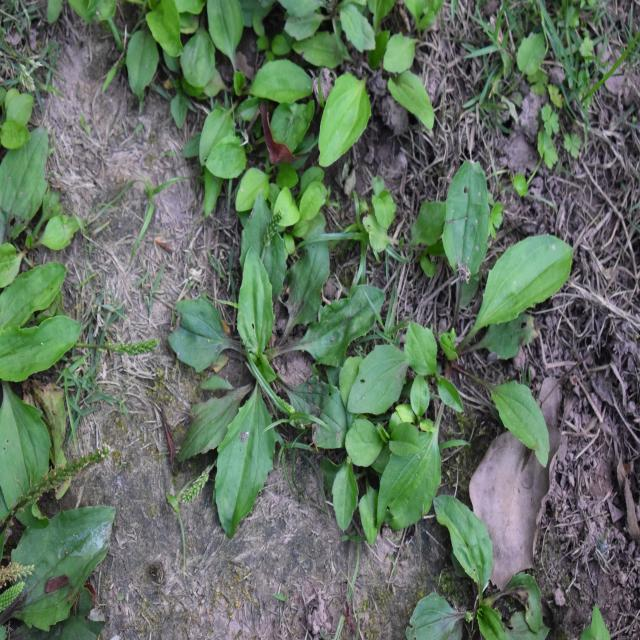plantain: (339, 186, 568, 498), (170, 230, 382, 533)
